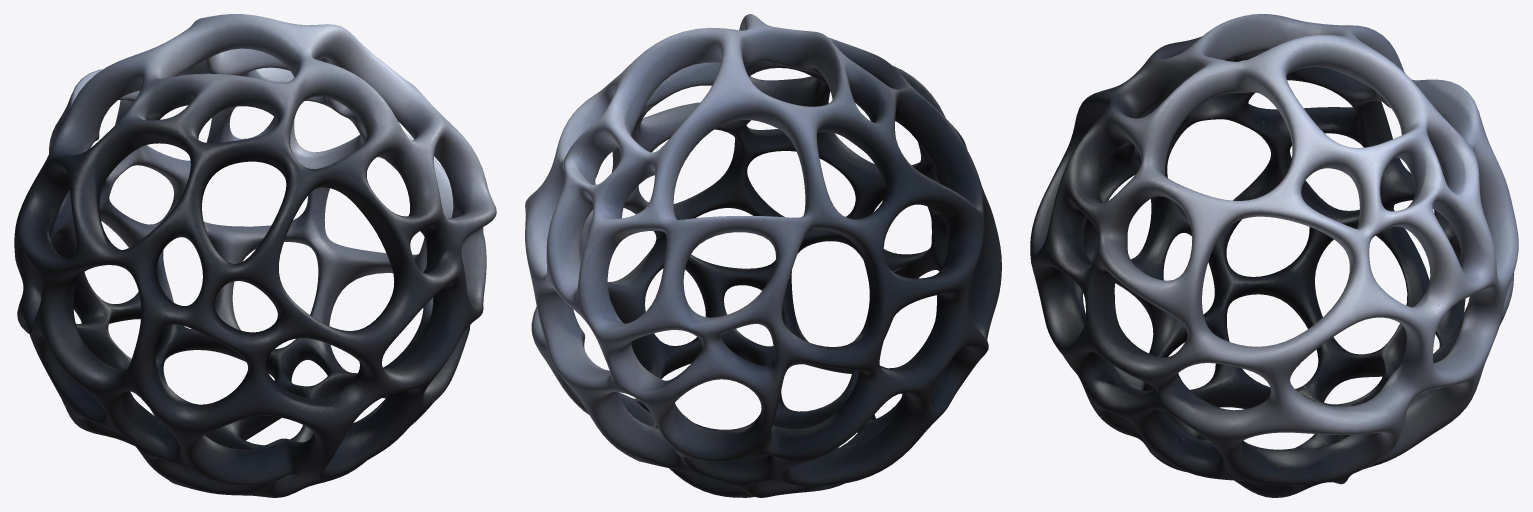
File: abstract_design.glb
3 renders of one model, left to right at view 1: azimuth 30°, elevation 25°; view 2: azimuth 150°, elevation 25°; view 3: azimuth 270°, elevation 25°, orthographic.
Parts seen in each view (by area): view 1: VoronoiDyno.Bake_Material_0; view 2: VoronoiDyno.Bake_Material_0; view 3: VoronoiDyno.Bake_Material_0.
Boxes of the visible parts, bbox=[...] form: VoronoiDyno.Bake_Material_0: bbox=[14, 14, 496, 497]; VoronoiDyno.Bake_Material_0: bbox=[525, 14, 1001, 497]; VoronoiDyno.Bake_Material_0: bbox=[1030, 14, 1518, 497].
Bounding box in the file's own units: 187 × 190 × 185.
Materials: 1 (1 with a texture image).
